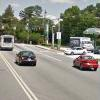Car: (12, 44, 42, 71)
